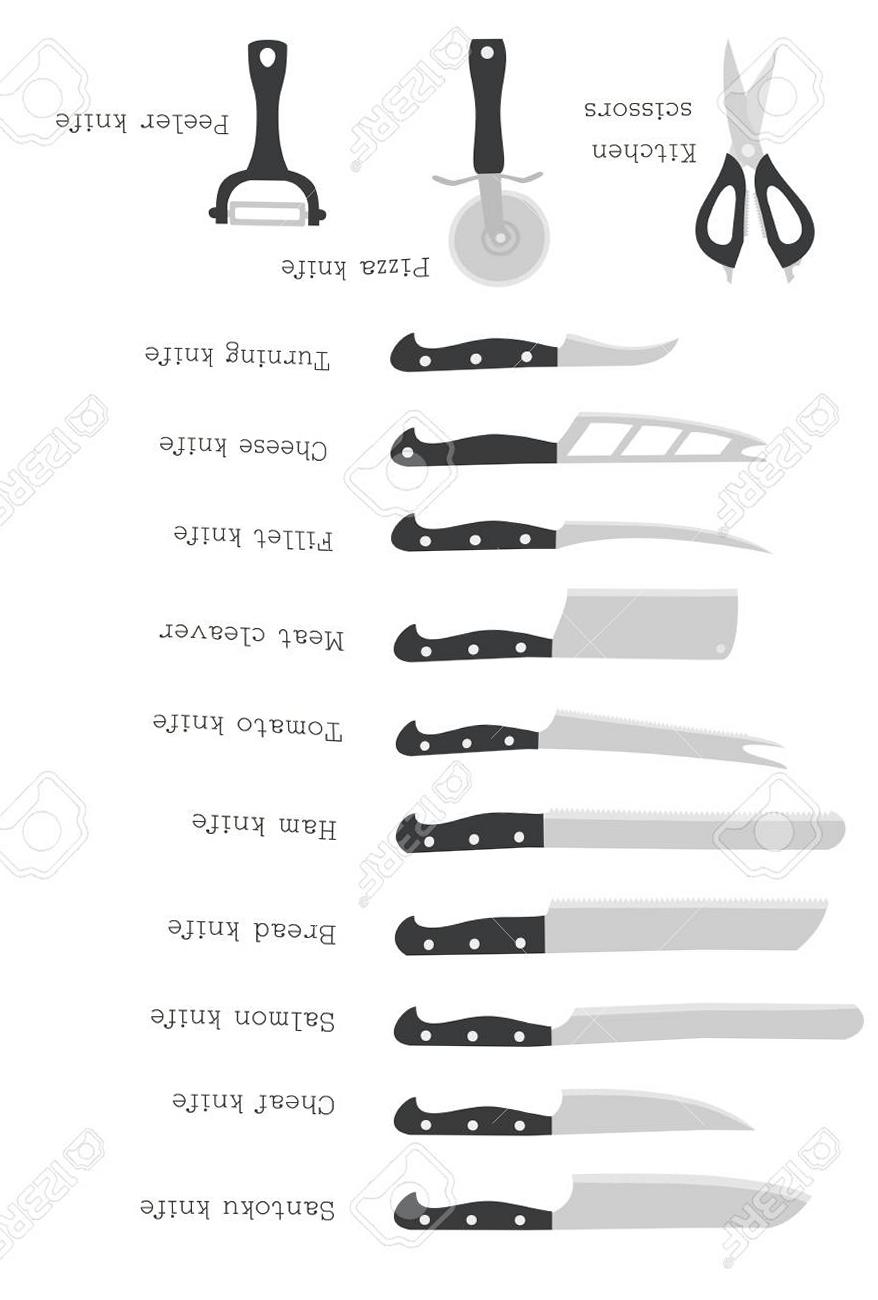knife: (390, 1094, 750, 1138)
